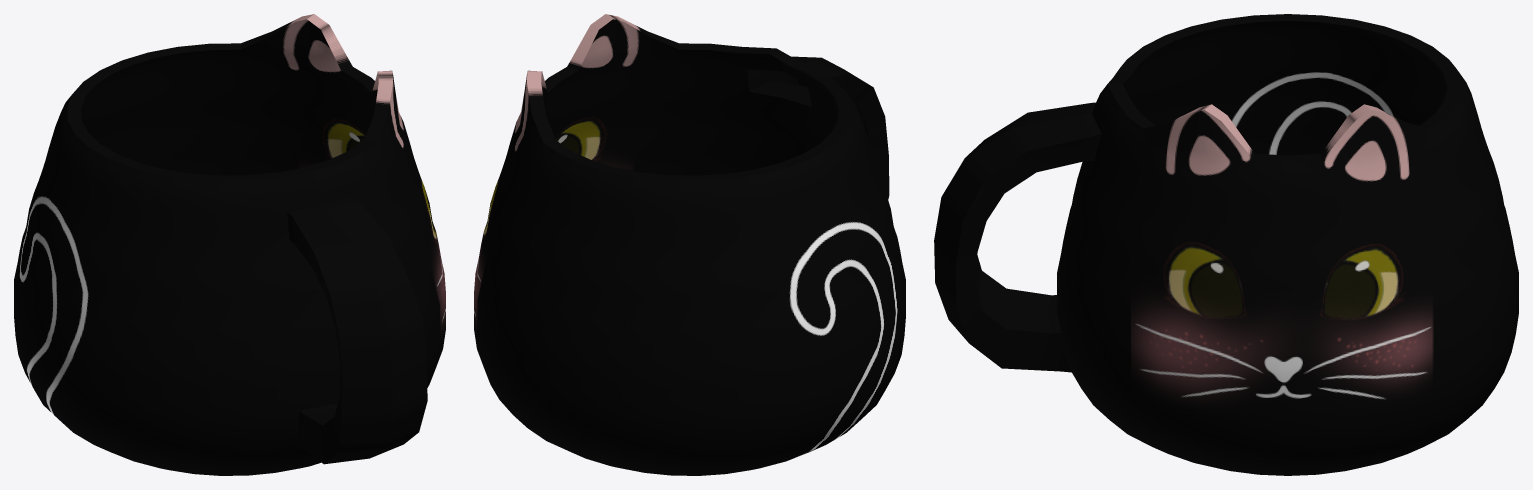
File: black cat.fbx
The picture shows the model from 3 angles, left to right: view 1: azimuth 30°, elevation 25°; view 2: azimuth 150°, elevation 25°; view 3: azimuth 270°, elevation 25°; orthographic projection. The views are drawn at different scales.
Parts seen in each view (by area): view 1: Calico cat; view 2: Calico cat; view 3: Calico cat.
Part boxes in pixels (box(x1,y1,x2,y2)): Calico cat: box(14, 14, 445, 475); Calico cat: box(474, 14, 905, 475); Calico cat: box(934, 14, 1518, 475).
Bounding box in the file's own units: 19.08 × 17.55 × 24.16.
